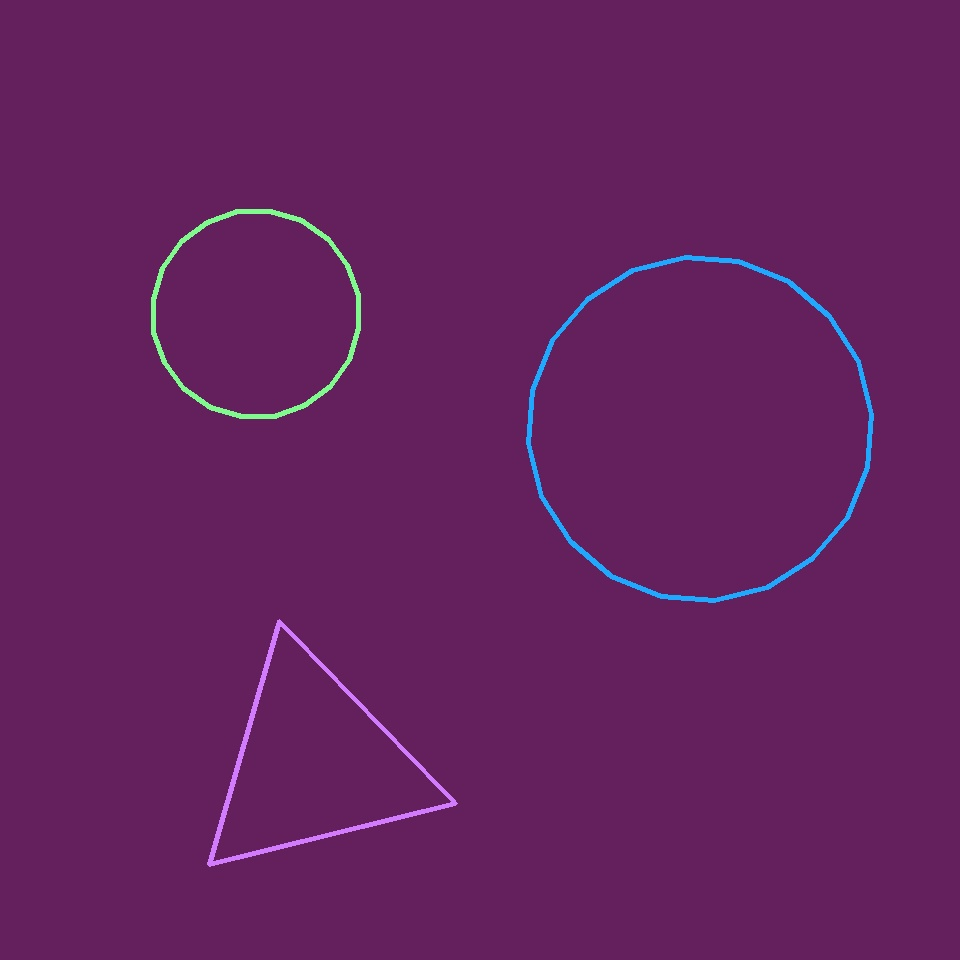circle: (192, 642, 438, 884)
triangle: (528, 258, 871, 600), (154, 212, 358, 416)
